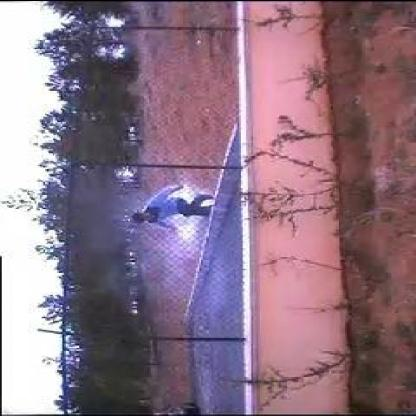-: (164, 214, 210, 264)
